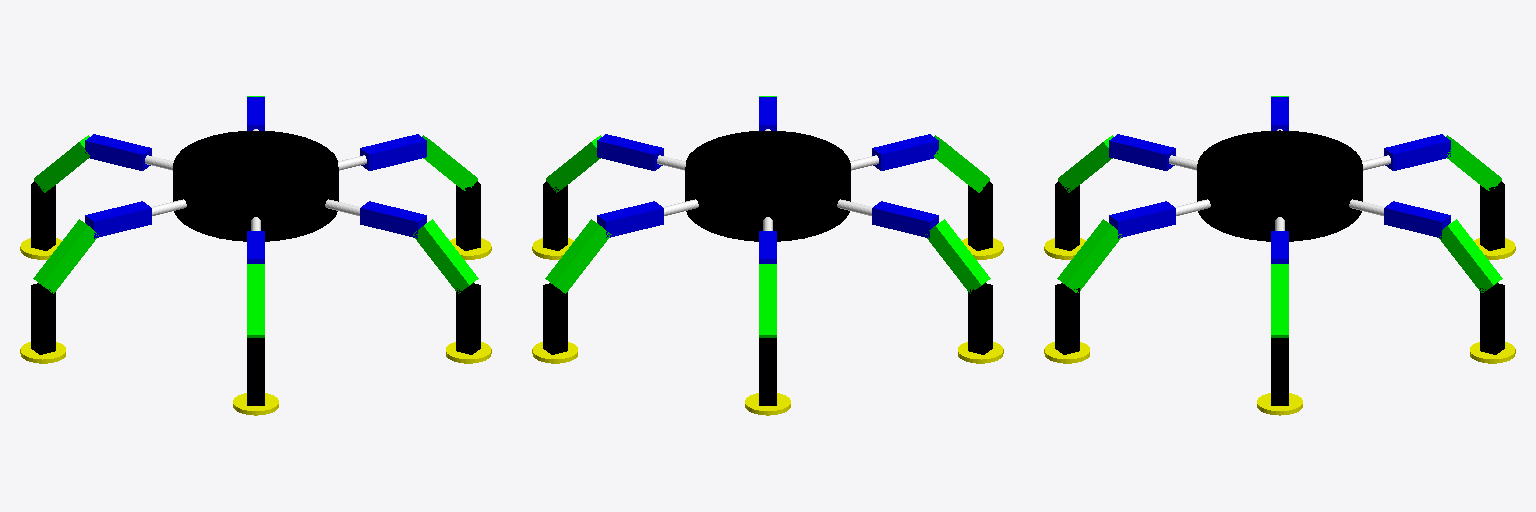
The robot description file, URDF, robot "hexapod":
<?xml version="1.0"?>

<robot name="hexapod">

<link name="base_link">
  <visual>
   <geometry>
      <box size="0.01 0.01 0.01"/>
   </geometry>
   <material name="black">
     <color rgba="0 0 0 100"/>
   </material>
  </visual>
</link>

<link name="body">
  <visual>
   <geometry>
     <cylinder length="0.1" radius="0.18"/>
   </geometry>
   <material name="black">
     <color rgba="0 0 0 100"/>
   </material>
  </visual>
</link>

<joint name="body" type="fixed">
  <axis xyz="0 0 1"/>
  <parent link="base_link"/>
  <child link="body"/>
  <origin rpy="0 0 0" xyz="0 0 0.5"/>
</joint>


<!--first-leg-->
<link name="bridge1">
  <visual>
    <origin xyz="0 0 0.0465" rpy="0 0 0"/>
    <geometry>
      <cylinder length="0.093" radius="0.01"/>
    </geometry>
    <material name="white">
      <color rgba="255 255 255 1"/>
    </material>
  </visual>
</link>
<joint name="bridge1" type="fixed">
  <axis xyz="0 0 1"/>
  <parent link="body"/>
  <child link="bridge1"/>
  <origin rpy="0 1.57075 0" xyz="0.18 0 0"/>
</joint>
      
<link name="leg1_roll">
  <visual>
    <origin xyz="-0.072445 0 0" rpy="0 0 0"/>
    <geometry>
      <box size="0.14489 0.04 0.04"/>
    </geometry>
    <material name="blue">
      <color rgba="0 0 255 1"/>
    </material>
  </visual>
</link>
<joint name="leg1_roll" type="revolute">
  <axis xyz="0 0 1"/>
  <limit effort="300" lower="-0.78540" upper="0.78540" velocity="1"/>
  <parent link="bridge1"/>
  <child link="leg1_roll"/>
  <origin rpy="0 1.57075 0" xyz="0 0 0.093"/>
</joint>

<link name="leg1_pitch1">
  <visual>
    <origin xyz="-0.082 0 0" rpy="0 0 0"/>
    <geometry>
      <box size="0.164 0.04 0.04"/>
    </geometry>
    <material name="green">
      <color rgba="0 128 0 1"/>
    </material>
  </visual>
</link>
<joint name="leg1_pitch1" type="revolute">
  <axis xyz="0 1 0"/>
  <limit effort="300" lower="-0.78540" upper="0.78540" velocity="1"/>
  <parent link="leg1_roll"/>
  <child link="leg1_pitch1"/>
  <origin rpy="0 0.78540 0" xyz="-0.14489 0 0"/>
</joint>

<link name="leg1_pitch2">
  <visual>
    <origin xyz="-0.0785 0 0" rpy="0 0 0"/>
    <geometry>
      <box size="0.157 0.04 0.04"/>
    </geometry>
    <material name="black">
      <color rgba="0 0 0 1"/>
    </material>
  </visual>
</link>
<joint name="leg1_pitch2" type="revolute">
  <axis xyz="0 1 0"/>
  <limit effort="300" lower="-0.78540" upper="0.78540" velocity="1"/>
  <parent link="leg1_pitch1"/>
  <child link="leg1_pitch2"/>
  <origin rpy="0 0.78540 0" xyz="-0.164 0 0"/>
</joint>

<link name="stick1">
  <visual>
    <origin xyz="0 0 0" rpy="0 0 0"/>
    <geometry>
      <cylinder length="0.01" radius="0.05"/>
    </geometry>
    <material name="yellow">
      <color rgba="255 255 0 1"/>
    </material>
  </visual>
</link>
<joint name="stick1" type="fixed">
  <axis xyz="0 0 1"/>
  <parent link="leg1_pitch2"/>
  <child link="stick1"/>
  <origin rpy="0 1.57075 0" xyz="-0.157 0 0"/>
</joint>



<!--second-leg-->
<link name="bridge2">
  <visual>
    <origin xyz="0 0 0.0465" rpy="0 0 0"/>
    <geometry>
      <cylinder length="0.093" radius="0.01"/>
    </geometry>
    <material name="white">
      <color rgba="255 255 255 1"/>
    </material>
  </visual>
</link>
<joint name="bridge2" type="fixed">
  <axis xyz="0 0 1"/>
  <parent link="body"/>
  <child link="bridge2"/>
  <origin rpy="-1.04720 1.57075 0" xyz="0.09 0.15589 0"/>
</joint>
      
<link name="leg2_roll">
  <visual>
    <origin xyz="-0.072445 0 0" rpy="0 0 0"/>
    <geometry>
      <box size="0.14489 0.04 0.04"/>
    </geometry>
    <material name="blue">
      <color rgba="0 0 255 1"/>
    </material>
  </visual>
</link>
<joint name="leg2_roll" type="revolute">
  <axis xyz="0 0 1"/>
  <limit effort="300" lower="-0.78540" upper="0.78540" velocity="1"/>
  <parent link="bridge2"/>
  <child link="leg2_roll"/>
  <origin rpy="0 1.57075 0" xyz="0 0 0.093"/>
</joint>

<link name="leg2_pitch1">
  <visual>
    <origin xyz="-0.082 0 0" rpy="0 0 0"/>
    <geometry>
      <box size="0.164 0.04 0.04"/>
    </geometry>
    <material name="green">
      <color rgba="0 128 0 1"/>
    </material>
  </visual>
</link>
<joint name="leg2_pitch1" type="revolute">
  <axis xyz="0 1 0"/>
  <limit effort="300" lower="-0.78540" upper="0.78540" velocity="1"/>
  <parent link="leg2_roll"/>
  <child link="leg2_pitch1"/>
  <origin rpy="0 0.78540 0" xyz="-0.14489 0 0"/>
</joint>

<link name="leg2_pitch2">
  <visual>
    <origin xyz="-0.0785 0 0" rpy="0 0 0"/>
    <geometry>
      <box size="0.157 0.04 0.04"/>
    </geometry>
    <material name="black">
      <color rgba="0 0 0 1"/>
    </material>
  </visual>
</link>
<joint name="leg2_pitch2" type="revolute">
  <axis xyz="0 1 0"/>
  <limit effort="300" lower="-0.78540" upper="0.78540" velocity="1"/>
  <parent link="leg2_pitch1"/>
  <child link="leg2_pitch2"/>
  <origin rpy="0 0.78540 0" xyz="-0.164 0 0"/>
</joint>
<link name="stick2">
  <visual>
    <origin xyz="0 0 0" rpy="0 0 0"/>
    <geometry>
      <cylinder length="0.01" radius="0.05"/>
    </geometry>
    <material name="yellow">
      <color rgba="255 255 0 1"/>
    </material>
  </visual>
</link>
<joint name="stick2" type="fixed">
  <axis xyz="0 0 1"/>
  <parent link="leg2_pitch2"/>
  <child link="stick2"/>
  <origin rpy="0 1.57075 0" xyz="-0.157 0 0"/>
</joint>


<!--third-leg-->
<link name="bridge3">
  <visual>
    <origin xyz="0 0 0.0465" rpy="0 0 0"/>
    <geometry>
      <cylinder length="0.093" radius="0.01"/>
    </geometry>
    <material name="white">
      <color rgba="255 255 255 1"/>
    </material>
  </visual>
</link>
<joint name="bridge3" type="fixed">
  <axis xyz="0 0 1"/>
  <parent link="body"/>
  <child link="bridge3"/>
  <origin rpy="-2.09440 1.57075 0" xyz="-0.09 0.15589 0"/>
</joint>
      
<link name="leg3_roll">
  <visual>
    <origin xyz="-0.072445 0 0" rpy="0 0 0"/>
    <geometry>
      <box size="0.14489 0.04 0.04"/>
    </geometry>
    <material name="blue">
      <color rgba="0 0 255 1"/>
    </material>
  </visual>
</link>
<joint name="leg3_roll" type="revolute">
  <axis xyz="0 0 1"/>
  <limit effort="300" lower="-0.78540" upper="0.78540" velocity="1"/>
  <parent link="bridge3"/>
  <child link="leg3_roll"/>
  <origin rpy="0 1.57075 0" xyz="0 0 0.093"/>
</joint>

<link name="leg3_pitch1">
  <visual>
    <origin xyz="-0.082 0 0" rpy="0 0 0"/>
    <geometry>
      <box size="0.164 0.04 0.04"/>
    </geometry>
    <material name="green">
      <color rgba="0 128 0 1"/>
    </material>
  </visual>
</link>
<joint name="leg3_pitch1" type="revolute">
  <axis xyz="0 1 0"/>
  <limit effort="300" lower="-0.78540" upper="0.78540" velocity="1"/>
  <parent link="leg3_roll"/>
  <child link="leg3_pitch1"/>
  <origin rpy="0 0.78540 0" xyz="-0.14489 0 0"/>
</joint>

<link name="leg3_pitch2">
  <visual>
    <origin xyz="-0.0785 0 0" rpy="0 0 0"/>
    <geometry>
      <box size="0.157 0.04 0.04"/>
    </geometry>
    <material name="black">
      <color rgba="0 0 0 1"/>
    </material>
  </visual>
</link>
<joint name="leg3_pitch2" type="revolute">
  <axis xyz="0 1 0"/>
  <limit effort="300" lower="-0.78540" upper="0.78540" velocity="1"/>
  <parent link="leg3_pitch1"/>
  <child link="leg3_pitch2"/>
  <origin rpy="0 0.78540 0" xyz="-0.164 0 0"/>
</joint>
<link name="stick3">
  <visual>
    <origin xyz="0 0 0" rpy="0 0 0"/>
    <geometry>
      <cylinder length="0.01" radius="0.05"/>
    </geometry>
    <material name="yellow">
      <color rgba="255 255 0 1"/>
    </material>
  </visual>
</link>
<joint name="stick3" type="fixed">
  <axis xyz="0 0 1"/>
  <parent link="leg3_pitch2"/>
  <child link="stick3"/>
  <origin rpy="0 1.57075 0" xyz="-0.157 0 0"/>
</joint>


<!--4th-leg-->
<link name="bridge4">
  <visual>
    <origin xyz="0 0 0.0465" rpy="0 0 0"/>
    <geometry>
      <cylinder length="0.093" radius="0.01"/>
    </geometry>
    <material name="white">
      <color rgba="255 255 255 1"/>
    </material>
  </visual>
</link>
<joint name="bridge4" type="fixed">
  <axis xyz="0 0 1"/>
  <parent link="body"/>
  <child link="bridge4"/>
  <origin rpy="-3.14159 1.57075 0" xyz="-0.18 0 0"/>
</joint>
      
<link name="leg4_roll">
  <visual>
    <origin xyz="-0.072445 0 0" rpy="0 0 0"/>
    <geometry>
      <box size="0.14489 0.04 0.04"/>
    </geometry>
    <material name="blue">
      <color rgba="0 0 255 1"/>
    </material>
  </visual>
</link>
<joint name="leg4_roll" type="revolute">
  <axis xyz="0 0 1"/>
  <limit effort="300" lower="-0.78540" upper="0.78540" velocity="1"/>
  <parent link="bridge4"/>
  <child link="leg4_roll"/>
  <origin rpy="0 1.57075 0" xyz="0 0 0.093"/>
</joint>

<link name="leg4_pitch1">
  <visual>
    <origin xyz="-0.082 0 0" rpy="0 0 0"/>
    <geometry>
      <box size="0.164 0.04 0.04"/>
    </geometry>
    <material name="green">
      <color rgba="0 128 0 1"/>
    </material>
  </visual>
</link>
<joint name="leg4_pitch1" type="revolute">
  <axis xyz="0 1 0"/>
  <limit effort="300" lower="-0.78540" upper="0.78540" velocity="1"/>
  <parent link="leg4_roll"/>
  <child link="leg4_pitch1"/>
  <origin rpy="0 0.78540 0" xyz="-0.14489 0 0"/>
</joint>

<link name="leg4_pitch2">
  <visual>
    <origin xyz="-0.0785 0 0" rpy="0 0 0"/>
    <geometry>
      <box size="0.157 0.04 0.04"/>
    </geometry>
    <material name="black">
      <color rgba="0 0 0 1"/>
    </material>
  </visual>
</link>
<joint name="leg4_pitch2" type="revolute">
  <axis xyz="0 1 0"/>
  <limit effort="300" lower="-0.78540" upper="0.78540" velocity="1"/>
  <parent link="leg4_pitch1"/>
  <child link="leg4_pitch2"/>
  <origin rpy="0 0.78540 0" xyz="-0.164 0 0"/>
</joint>
<link name="stick4">
  <visual>
    <origin xyz="0 0 0" rpy="0 0 0"/>
    <geometry>
      <cylinder length="0.01" radius="0.05"/>
    </geometry>
    <material name="yellow">
      <color rgba="255 255 0 1"/>
    </material>
  </visual>
</link>
<joint name="stick4" type="fixed">
  <axis xyz="0 0 1"/>
  <parent link="leg4_pitch2"/>
  <child link="stick4"/>
  <origin rpy="0 1.57075 0" xyz="-0.157 0 0"/>
</joint>

<!--5th-leg-->
<link name="bridge5">
  <visual>
    <origin xyz="0 0 0.0465" rpy="0 0 0"/>
    <geometry>
      <cylinder length="0.093" radius="0.01"/>
    </geometry>
    <material name="white">
      <color rgba="255 255 255 1"/>
    </material>
  </visual>
</link>
<joint name="bridge5" type="fixed">
  <axis xyz="0 0 1"/>
  <parent link="body"/>
  <child link="bridge5"/>
  <origin rpy="2.09440 1.57075 0" xyz="-0.09 -0.15589 0"/>
</joint>
      
<link name="leg5_roll">
  <visual>
    <origin xyz="-0.072445 0 0" rpy="0 0 0"/>
    <geometry>
      <box size="0.14489 0.04 0.04"/>
    </geometry>
    <material name="blue">
      <color rgba="0 0 255 1"/>
    </material>
  </visual>
</link>
<joint name="leg5_roll" type="revolute">
  <axis xyz="0 0 1"/>
  <limit effort="300" lower="-0.78540" upper="0.78540" velocity="1"/>
  <parent link="bridge5"/>
  <child link="leg5_roll"/>
  <origin rpy="0 1.57075 0" xyz="0 0 0.093"/>
</joint>

<link name="leg5_pitch1">
  <visual>
    <origin xyz="-0.082 0 0" rpy="0 0 0"/>
    <geometry>
      <box size="0.164 0.04 0.04"/>
    </geometry>
    <material name="green">
      <color rgba="0 128 0 1"/>
    </material>
  </visual>
</link>
<joint name="leg5_pitch1" type="revolute">
  <axis xyz="0 1 0"/>
  <limit effort="300" lower="-0.78540" upper="0.78540" velocity="1"/>
  <parent link="leg5_roll"/>
  <child link="leg5_pitch1"/>
  <origin rpy="0 0.78540 0" xyz="-0.14489 0 0"/>
</joint>

<link name="leg5_pitch2">
  <visual>
    <origin xyz="-0.0785 0 0" rpy="0 0 0"/>
    <geometry>
      <box size="0.157 0.04 0.04"/>
    </geometry>
    <material name="black">
      <color rgba="0 0 0 1"/>
    </material>
  </visual>
</link>
<joint name="leg5_pitch2" type="revolute">
  <axis xyz="0 1 0"/>
  <limit effort="300" lower="-0.78540" upper="0.78540" velocity="1"/>
  <parent link="leg5_pitch1"/>
  <child link="leg5_pitch2"/>
  <origin rpy="0 0.78540 0" xyz="-0.164 0 0"/>
</joint>
<link name="stick5">
  <visual>
    <origin xyz="0 0 0" rpy="0 0 0"/>
    <geometry>
      <cylinder length="0.01" radius="0.05"/>
    </geometry>
    <material name="yellow">
      <color rgba="255 255 0 1"/>
    </material>
  </visual>
</link>
<joint name="stick5" type="fixed">
  <axis xyz="0 0 1"/>
  <parent link="leg5_pitch2"/>
  <child link="stick5"/>
  <origin rpy="0 1.57075 0" xyz="-0.157 0 0"/>
</joint>

<!--6th-leg-->
<link name="bridge6">
  <visual>
    <origin xyz="0 0 0.0465" rpy="0 0 0"/>
    <geometry>
      <cylinder length="0.093" radius="0.01"/>
    </geometry>
    <material name="white">
      <color rgba="255 255 255 1"/>
    </material>
  </visual>
</link>
<joint name="bridge6" type="fixed">
  <axis xyz="0 0 1"/>
  <parent link="body"/>
  <child link="bridge6"/>
  <origin rpy="1.04720 1.57075 0" xyz="0.09 -0.15589 0"/>
</joint>
      
<link name="leg6_roll">
  <visual>
    <origin xyz="-0.072445 0 0" rpy="0 0 0"/>
    <geometry>
      <box size="0.14489 0.04 0.04"/>
    </geometry>
    <material name="blue">
      <color rgba="0 0 255 1"/>
    </material>
  </visual>
</link>
<joint name="leg6_roll" type="revolute">
  <axis xyz="0 0 1"/>
  <limit effort="300" lower="-0.78540" upper="0.78540" velocity="1"/>
  <parent link="bridge6"/>
  <child link="leg6_roll"/>
  <origin rpy="0 1.57075 0" xyz="0 0 0.093"/>
</joint>

<link name="leg6_pitch1">
  <visual>
    <origin xyz="-0.082 0 0" rpy="0 0 0"/>
    <geometry>
      <box size="0.164 0.04 0.04"/>
    </geometry>
    <material name="green">
      <color rgba="0 128 0 1"/>
    </material>
  </visual>
</link>
<joint name="leg6_pitch1" type="revolute">
  <axis xyz="0 1 0"/>
  <limit effort="300" lower="-0.78540" upper="0.78540" velocity="1"/>
  <parent link="leg6_roll"/>
  <child link="leg6_pitch1"/>
  <origin rpy="0 0.78540 0" xyz="-0.14489 0 0"/>
</joint>

<link name="leg6_pitch2">
  <visual>
    <origin xyz="-0.0785 0 0" rpy="0 0 0"/>
    <geometry>
      <box size="0.157 0.04 0.04"/>
    </geometry>
    <material name="black">
      <color rgba="0 0 0 1"/>
    </material>
  </visual>
</link>
<joint name="leg6_pitch2" type="revolute">
  <axis xyz="0 1 0"/>
  <limit effort="300" lower="-0.78540" upper="0.78540" velocity="1"/>
  <parent link="leg6_pitch1"/>
  <child link="leg6_pitch2"/>
  <origin rpy="0 0.78540 0" xyz="-0.164 0 0"/>
</joint>
<link name="stick6">
  <visual>
    <origin xyz="0 0 0" rpy="0 0 0"/>
    <geometry>
      <cylinder length="0.01" radius="0.05"/>
    </geometry>
    <material name="yellow">
      <color rgba="255 255 0 1"/>
    </material>
  </visual>
</link>
<joint name="stick6" type="fixed">
  <axis xyz="0 0 1"/>
  <parent link="leg6_pitch2"/>
  <child link="stick6"/>
  <origin rpy="0 1.57075 0" xyz="-0.157 0 0"/>
</joint>


</robot>

--- Facts derived from the render (not from the file) ---
Views: 3 orthographic renders of the robot side by side, from view 1: azimuth 30°, elevation 25°; view 2: azimuth 150°, elevation 25°; view 3: azimuth 270°, elevation 25°.
Robot: hexapod — 32 links, 31 joints (18 revolute, 13 fixed); root link base_link; default pose: every joint at zero.
Links seen in each view (by area): view 1: body, leg4_pitch1, leg6_pitch1, leg6_pitch2, leg4_pitch2, leg1_roll, leg1_pitch2, leg4_roll, leg3_roll, leg6_roll, leg3_pitch2, leg5_pitch1 (+8 smaller); view 2: body, leg2_pitch1, leg4_pitch1, leg4_pitch2, leg2_pitch2, leg1_roll, leg4_roll, leg1_pitch2, leg5_roll, leg2_roll, leg5_pitch2, leg3_pitch1 (+8 smaller); view 3: body, leg6_pitch1, leg2_pitch1, leg6_pitch2, leg2_pitch2, leg5_roll, leg3_pitch2, leg3_roll, leg2_roll, leg6_roll, leg5_pitch2, leg1_pitch1 (+8 smaller).
Link boxes in pixels (left/top/right/bottom): body: left=173, top=131, right=338, bottom=241; leg4_pitch1: left=33, top=219, right=98, bottom=293; leg6_pitch1: left=413, top=219, right=478, bottom=293; leg6_pitch2: left=456, top=283, right=480, bottom=354; leg4_pitch2: left=31, top=283, right=55, bottom=354; leg1_roll: left=360, top=134, right=426, bottom=170; leg1_pitch2: left=456, top=181, right=480, bottom=250; leg4_roll: left=85, top=201, right=151, bottom=238; leg3_roll: left=85, top=134, right=151, bottom=170; leg6_roll: left=360, top=201, right=426, bottom=238; leg3_pitch2: left=31, top=181, right=55, bottom=250; leg5_pitch1: left=247, top=264, right=264, bottom=337; body: left=685, top=131, right=850, bottom=241; leg2_pitch1: left=545, top=219, right=611, bottom=293; leg4_pitch1: left=925, top=219, right=990, bottom=293; leg4_pitch2: left=968, top=283, right=992, bottom=354; leg2_pitch2: left=543, top=283, right=567, bottom=354; leg1_roll: left=597, top=134, right=663, bottom=170; leg4_roll: left=872, top=201, right=938, bottom=238; leg1_pitch2: left=543, top=181, right=567, bottom=250; leg5_roll: left=872, top=134, right=938, bottom=170; leg2_roll: left=597, top=201, right=663, bottom=237; leg5_pitch2: left=968, top=181, right=992, bottom=250; leg3_pitch1: left=759, top=264, right=776, bottom=337; body: left=1197, top=130, right=1362, bottom=241; leg6_pitch1: left=1057, top=219, right=1121, bottom=292; leg2_pitch1: left=1438, top=219, right=1502, bottom=292; leg6_pitch2: left=1055, top=283, right=1079, bottom=354; leg2_pitch2: left=1480, top=283, right=1504, bottom=354; leg5_roll: left=1109, top=134, right=1175, bottom=170; leg3_pitch2: left=1480, top=181, right=1504, bottom=250; leg3_roll: left=1384, top=134, right=1450, bottom=170; leg2_roll: left=1384, top=201, right=1450, bottom=238; leg6_roll: left=1109, top=201, right=1175, bottom=238; leg5_pitch2: left=1055, top=181, right=1079, bottom=250; leg1_pitch1: left=1271, top=264, right=1288, bottom=337.
Size in the robot's own frame: 1.17 by 1.02 by 0.555 metres.
Geometry: primitives only (box / cylinder / sphere), no mesh files.